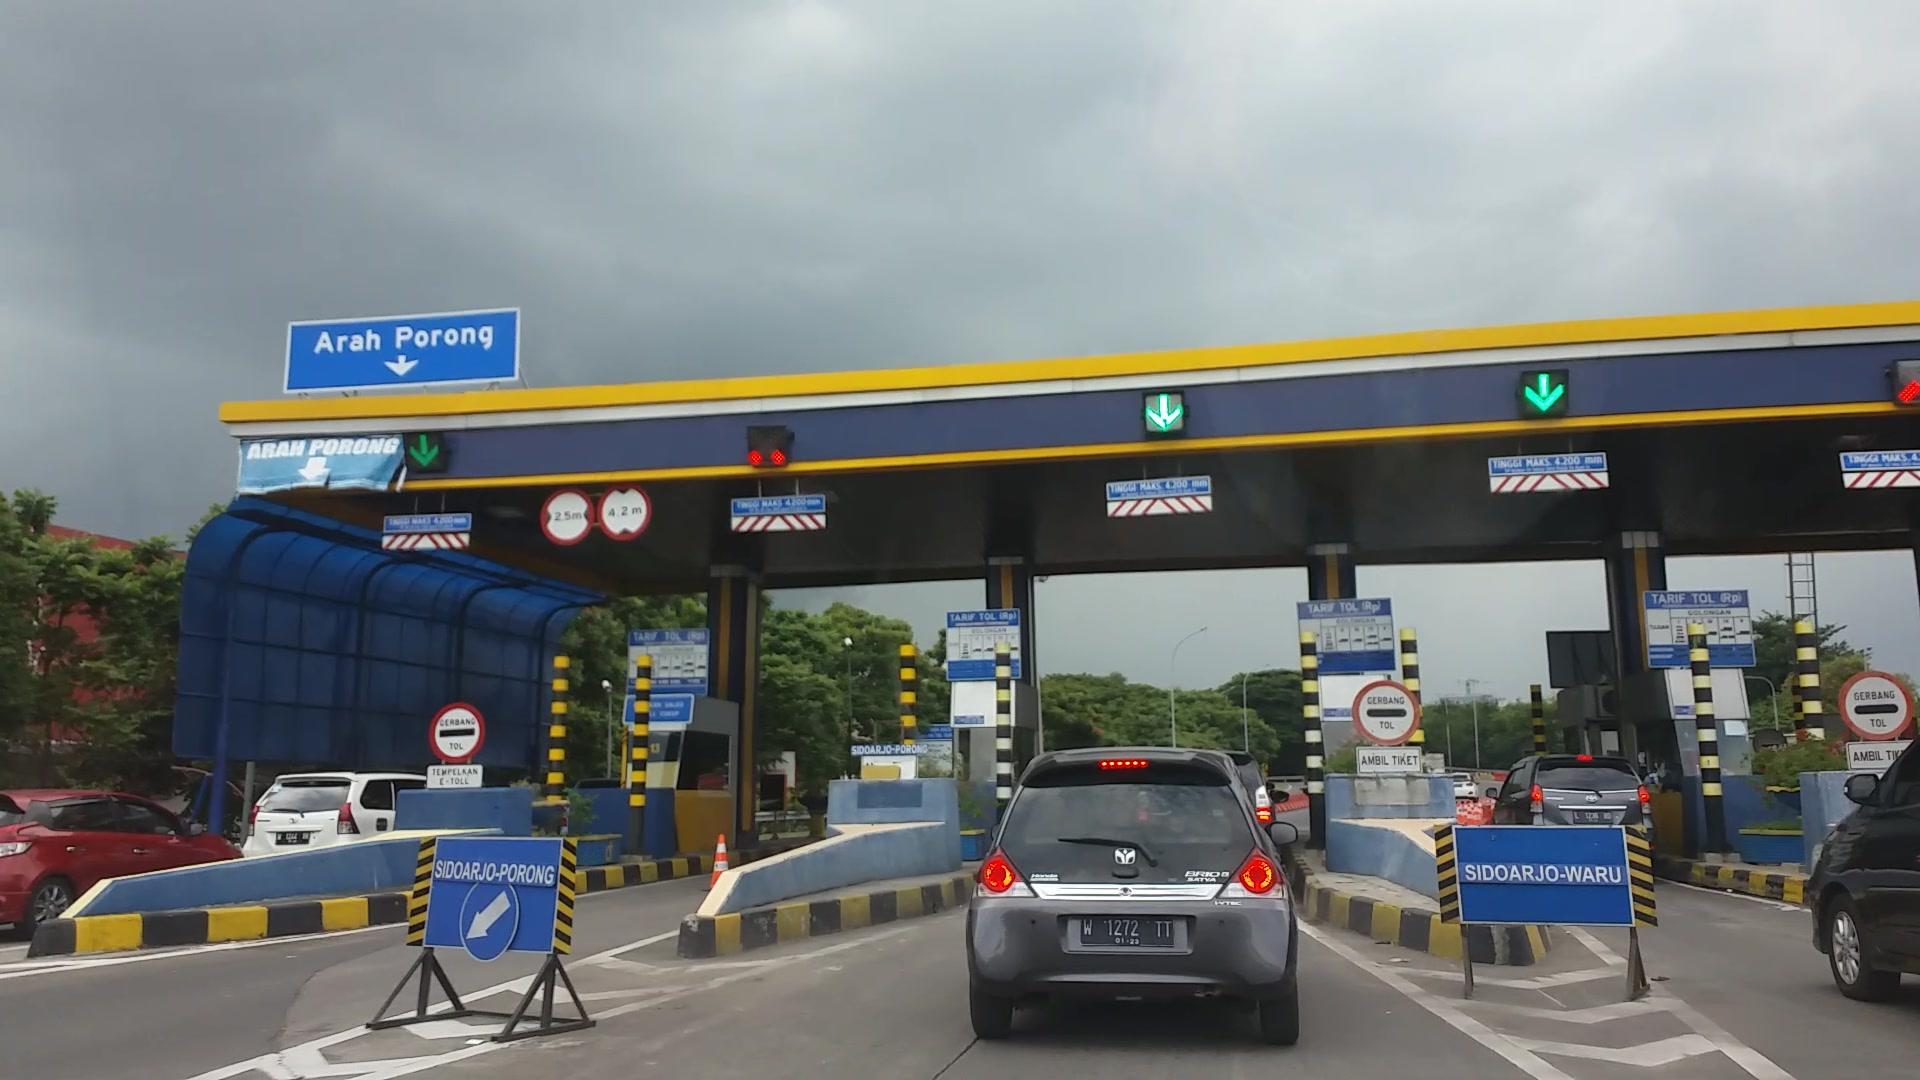plate_positive: (1080, 915, 1174, 947)
